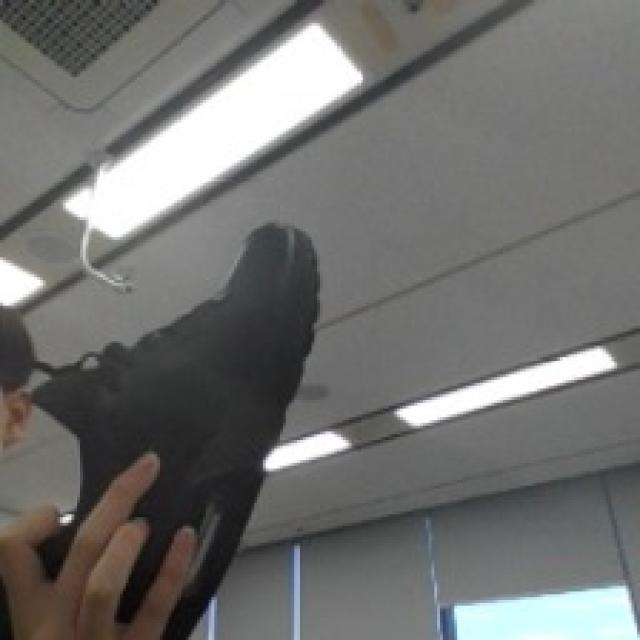shoes: (29, 220, 320, 640)
